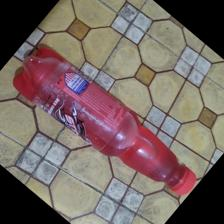Sting: (10, 44, 199, 196)
